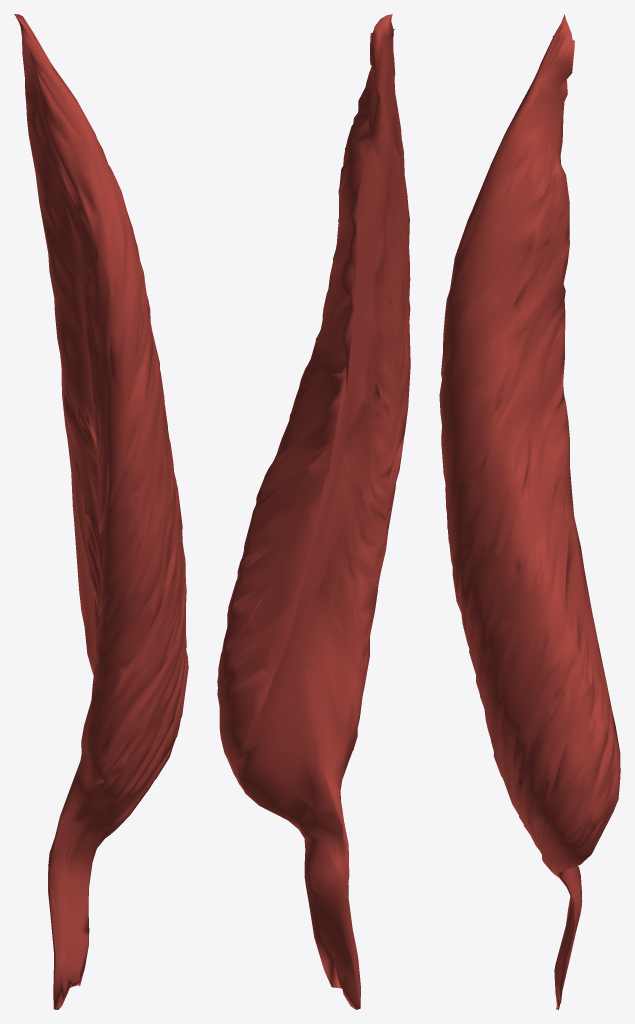
The model's file is musculos-vastus-medialis-muscle-r.glb.
The picture shows the model from 3 angles, left to right: view 1: azimuth 30°, elevation 25°; view 2: azimuth 150°, elevation 25°; view 3: azimuth 270°, elevation 25°; orthographic projection. The views are drawn at different scales.
Visible parts, largest first — view 1: Vastus medialis muscle.r; view 2: Vastus medialis muscle.r; view 3: Vastus medialis muscle.r.
Part boxes in pixels (box(x1,y1,x2,y2)): Vastus medialis muscle.r: box(14, 14, 188, 1009); Vastus medialis muscle.r: box(217, 14, 410, 1009); Vastus medialis muscle.r: box(439, 14, 620, 1009).
Size of the model in its own units: 0.0716 by 0.4077 by 0.0685.
